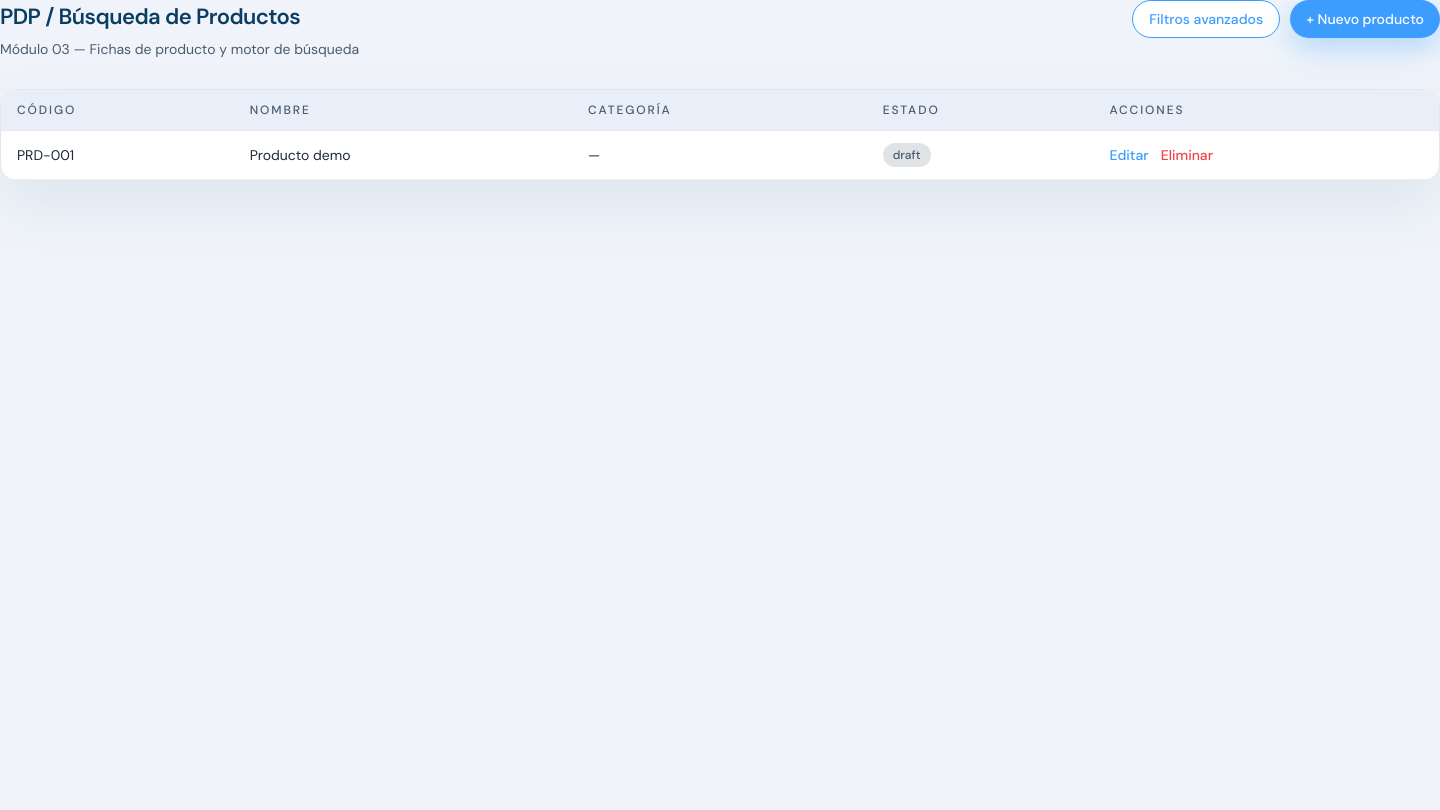
Test: ProductsPage › abre edición y confirmación de borrado
Step 1. Click the button "Editar" → (1129, 155), box [1109,145,1149,165]
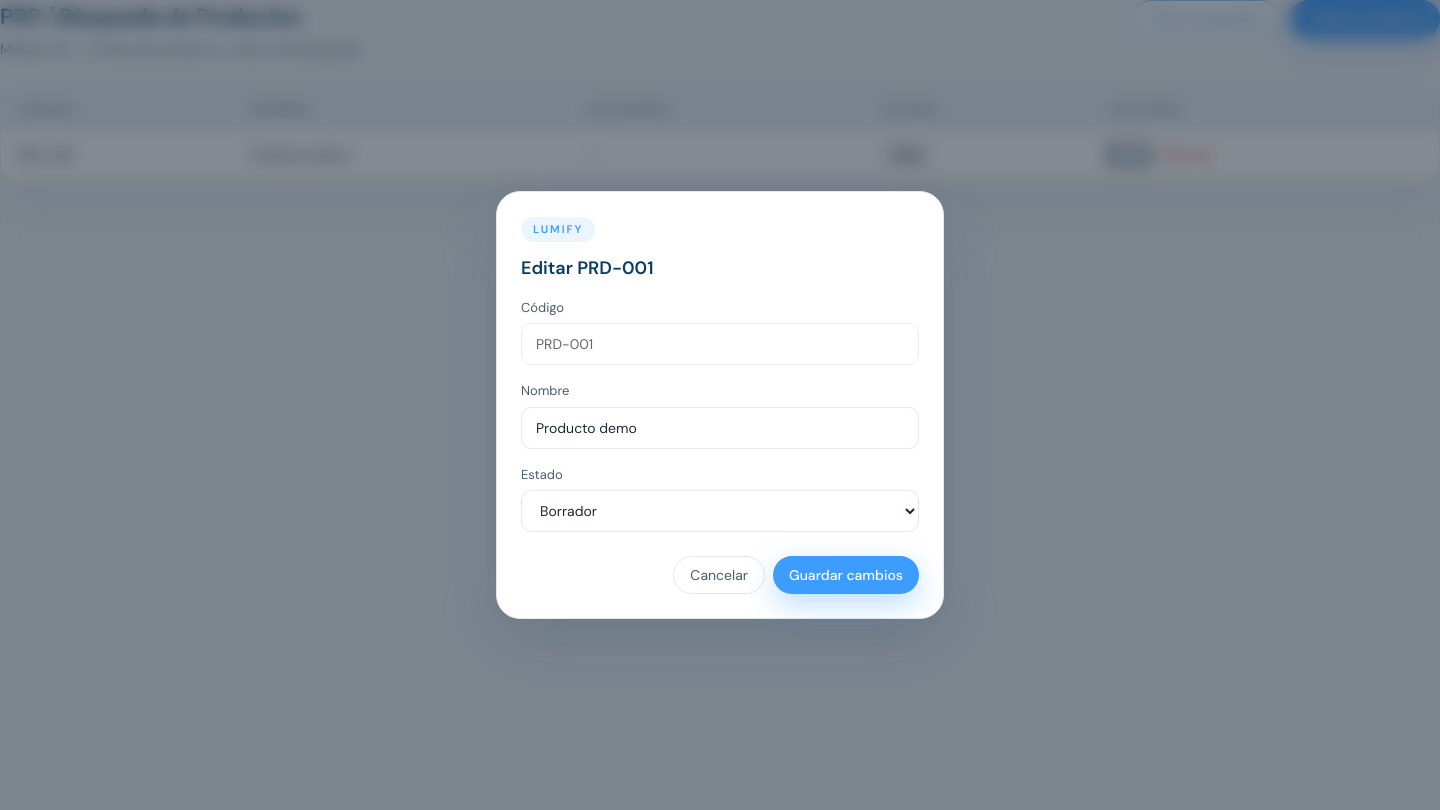
Result: the heading "Editar PRD-001" is shown at [521,256,654,280]
Step 2. Click the button "Cancelar" → (719, 575), box [673,556,765,594]
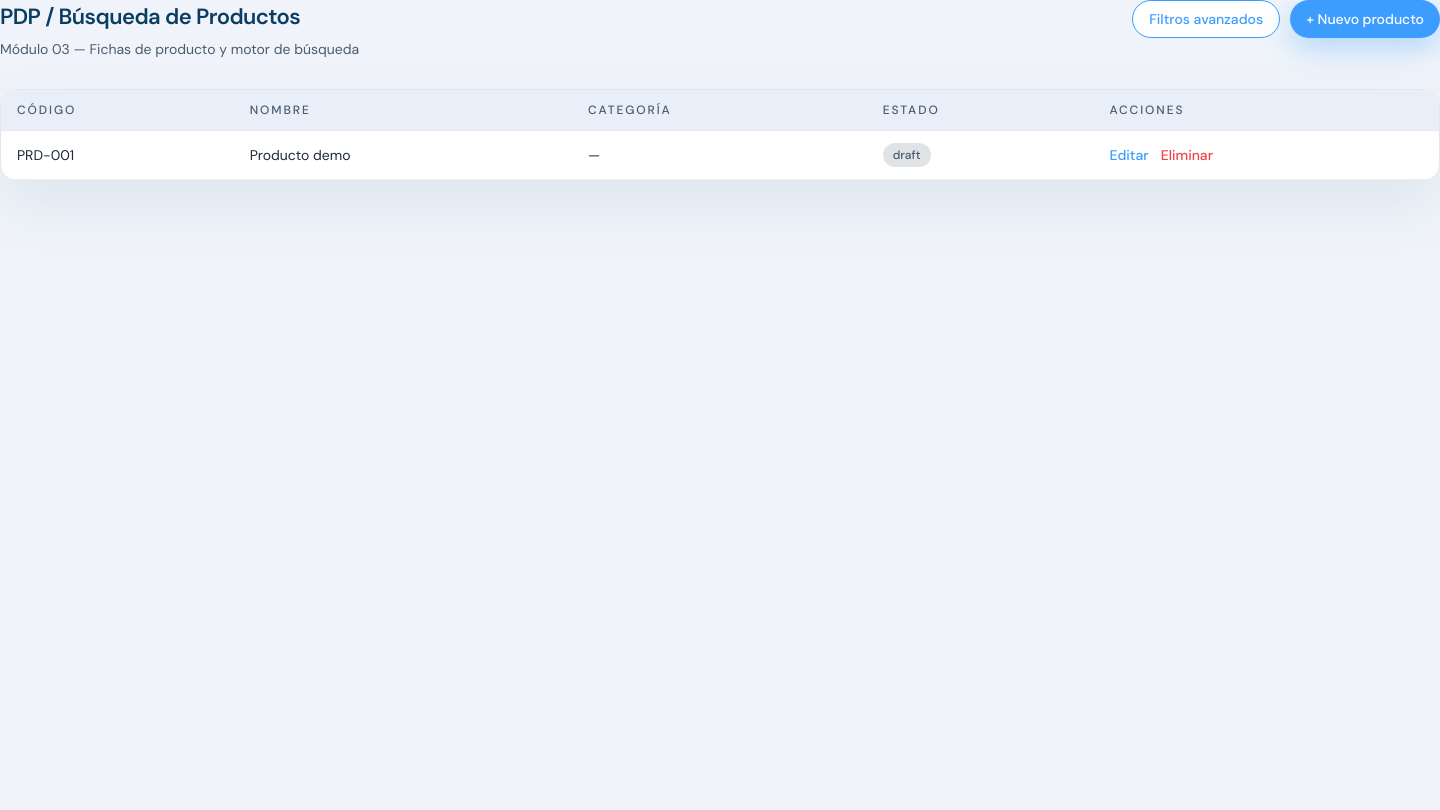
Step 3. Click the button "Eliminar" → (1187, 155), box [1161,145,1213,165]
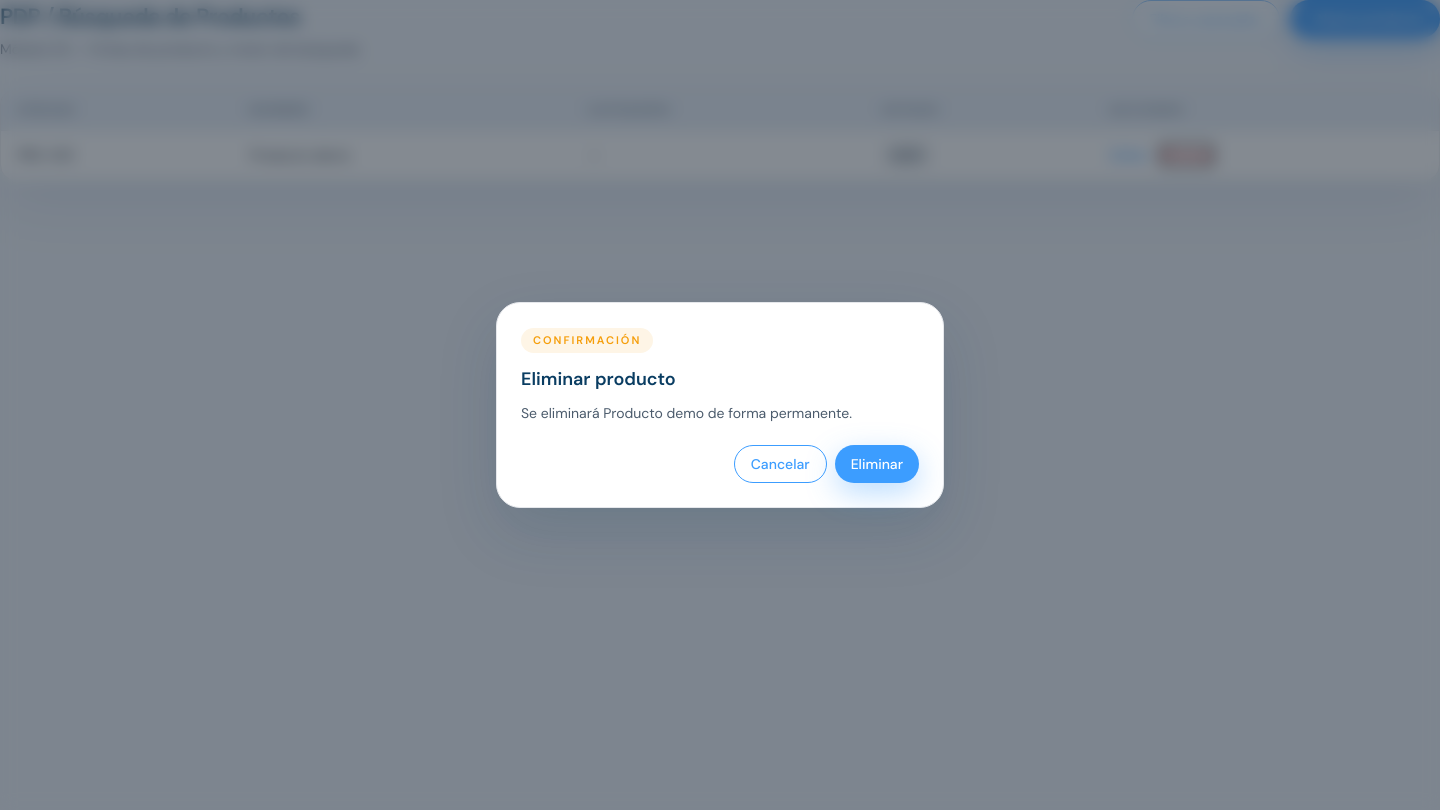
Result: the heading "Eliminar producto" is shown at [521,367,676,391]
